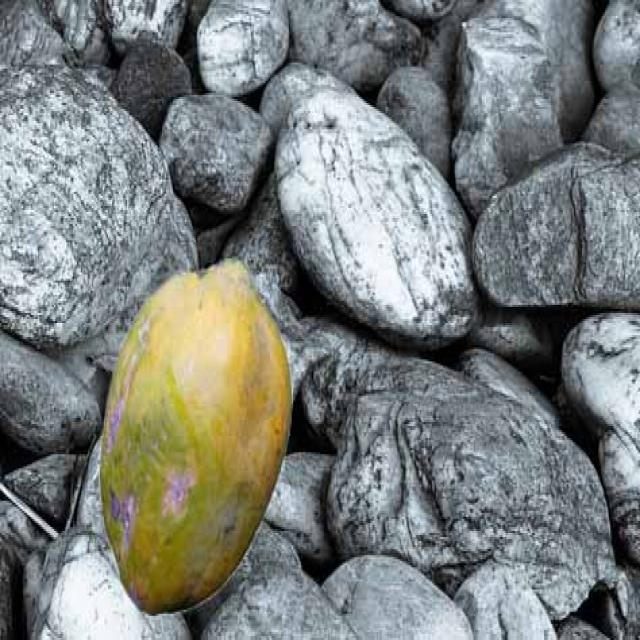Pepaya rippen: (93, 248, 294, 614)
